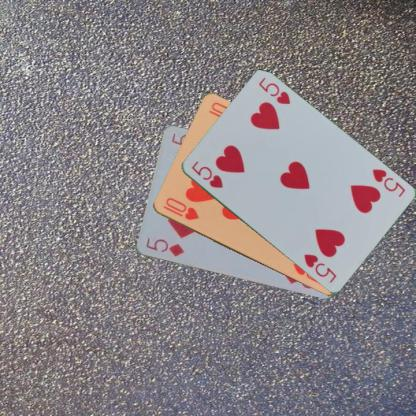10h: (160, 195, 200, 221)
5d: (144, 235, 186, 258)
5h: (369, 166, 406, 199), (188, 158, 224, 190)
